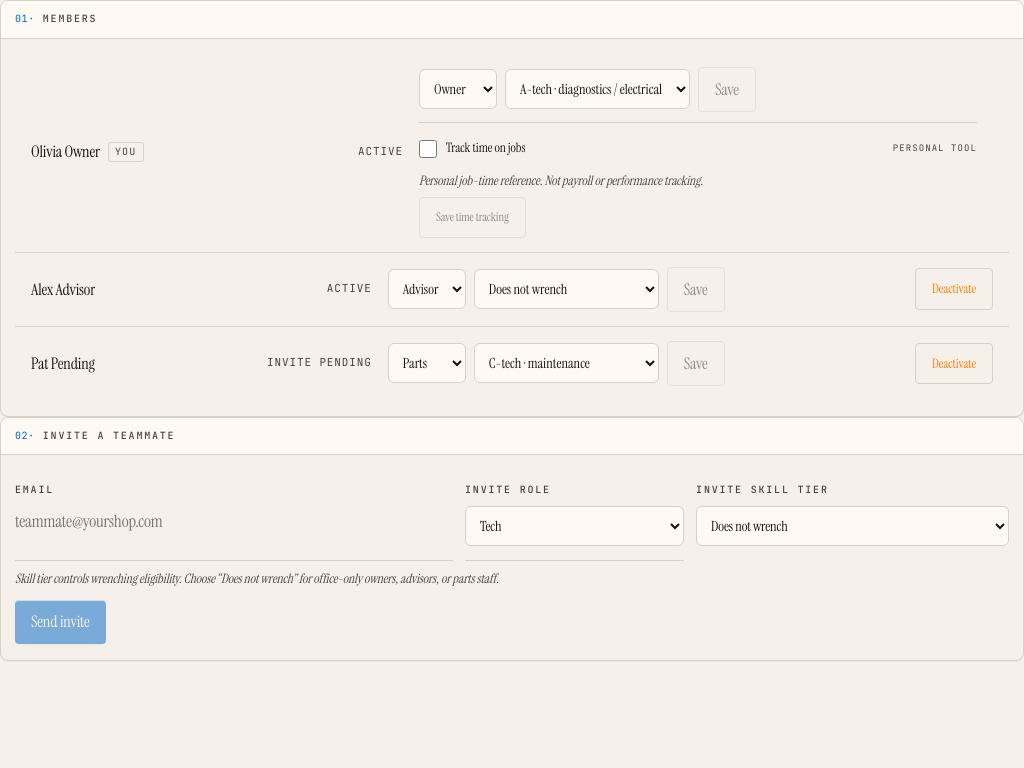
Scenario: TeamSection Shop OS roles › saves an eligible teammate timer preference only after a deliberate action
Click the checkbox named "Track time on Olivia Owner's jobs".
click(428, 149)  # box top-left (419, 140), bottom-right (437, 158)
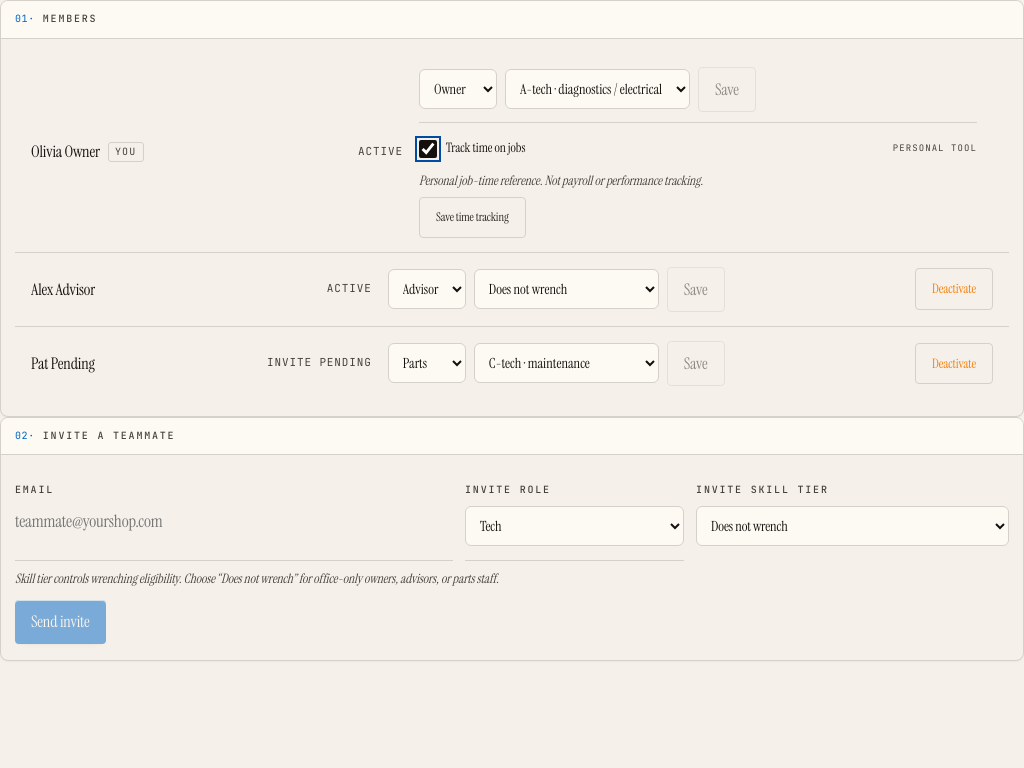
Click the button with aria-label "Save time tracking for Olivia Owner".
click(472, 217)  # box top-left (419, 197), bottom-right (526, 238)
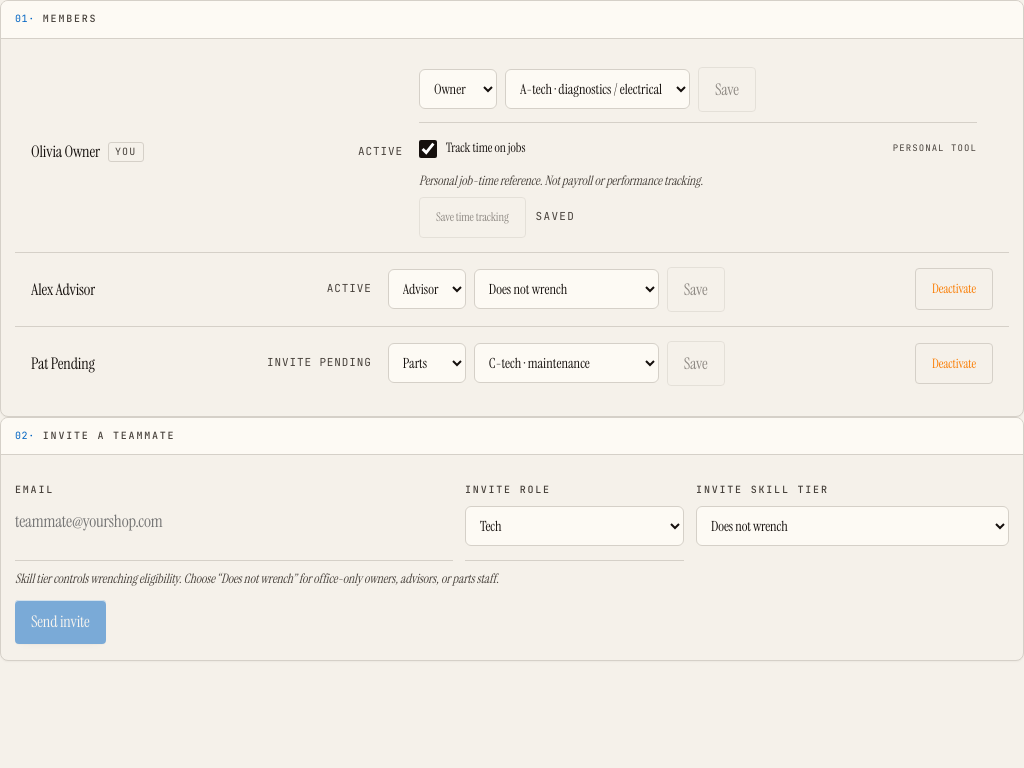
Check: the text "Saved" is shown, box top-left (536, 209), bottom-right (575, 225)
